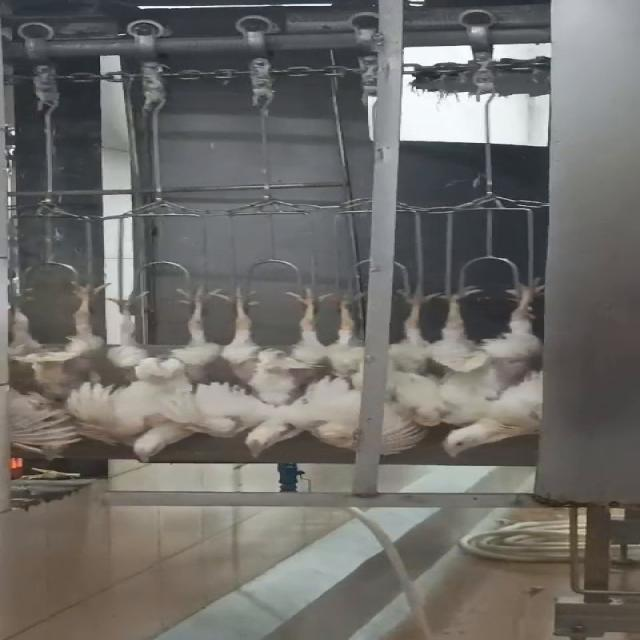chicken: (422, 272, 558, 456), (110, 280, 243, 468), (318, 278, 448, 452), (0, 280, 115, 460), (228, 276, 336, 461)
